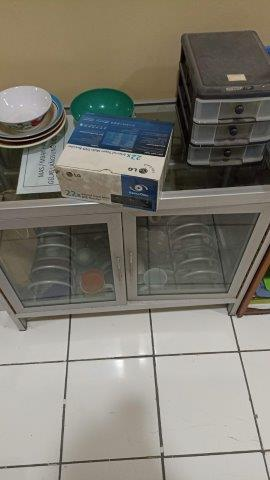kardus: (56, 113, 175, 212)
